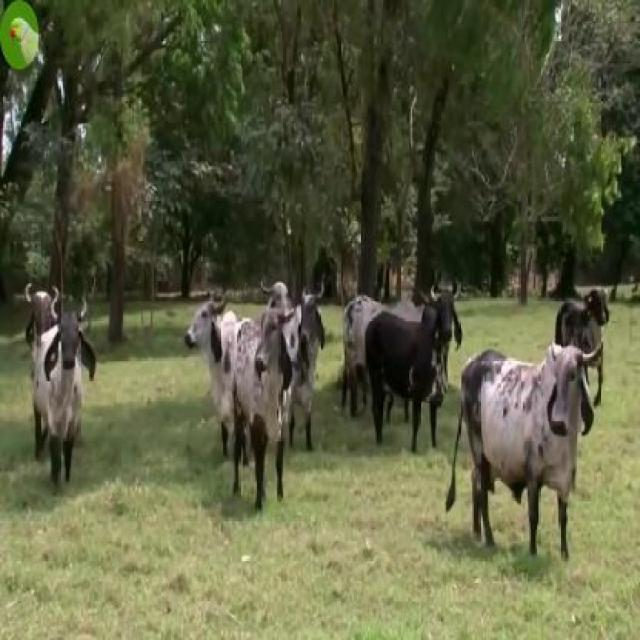Cow: (448, 336, 603, 566)
